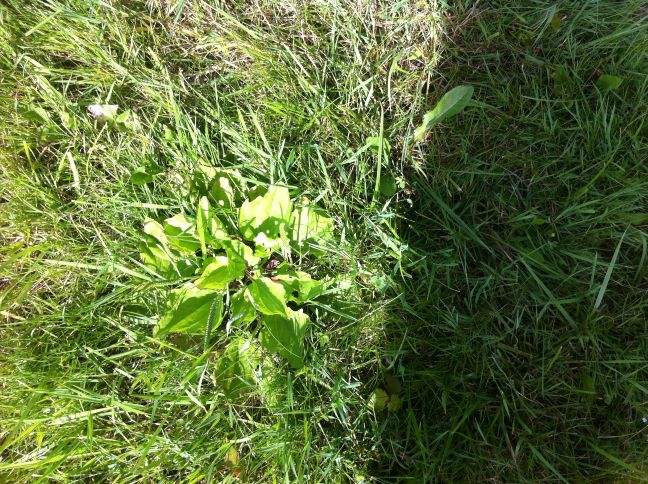weed1: (131, 181, 367, 373)
